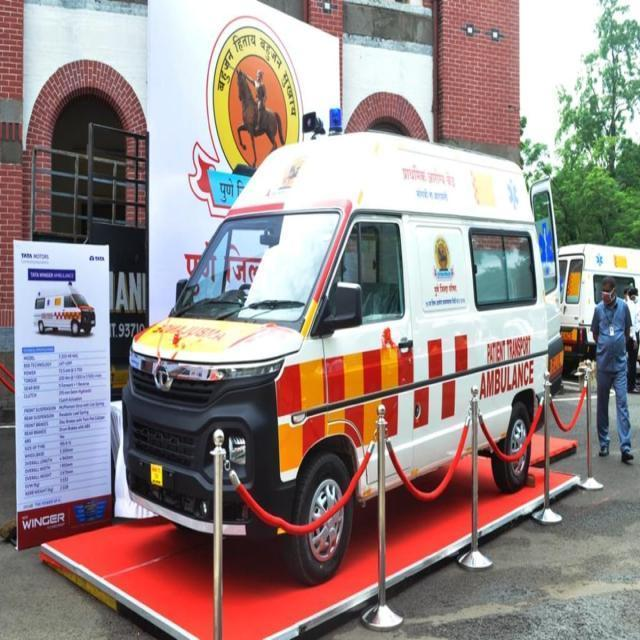Ambulance: (116, 127, 565, 587), (0, 365, 639, 639), (552, 241, 639, 386), (585, 275, 638, 466), (30, 281, 98, 340)
